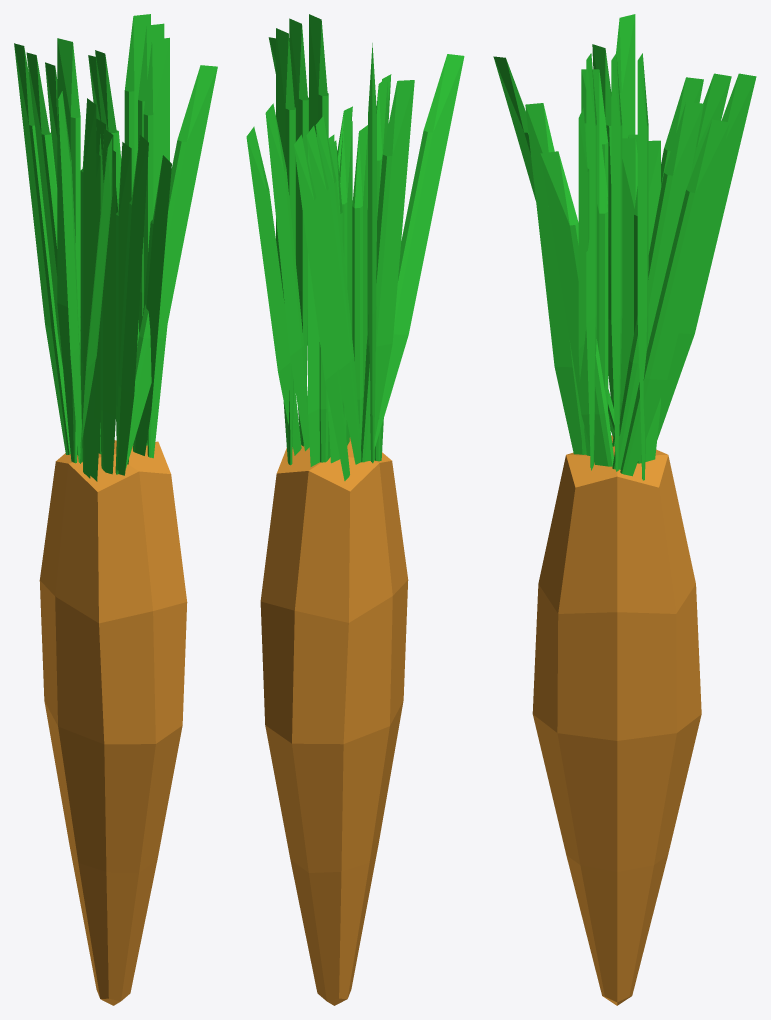
Rendered from Carrot_PS1.fbx.
3 views of the same model, side by side, from view 1: azimuth 30°, elevation 25°; view 2: azimuth 150°, elevation 25°; view 3: azimuth 270°, elevation 25° (orthographic).
Parts seen in each view (by area): view 1: Cube, Cube.021; view 2: Cube, Cube.021; view 3: Cube, Cube.021.
Boxes of the visible parts, <box> form: Cube: <box>39,440,187,1005</box>; Cube.021: <box>14,14,217,481</box>; Cube: <box>260,437,408,1005</box>; Cube.021: <box>246,14,464,480</box>; Cube: <box>532,435,701,1005</box>; Cube.021: <box>493,14,756,480</box>.
Size of the model in its own units: 47.57 by 289 by 71.18.
